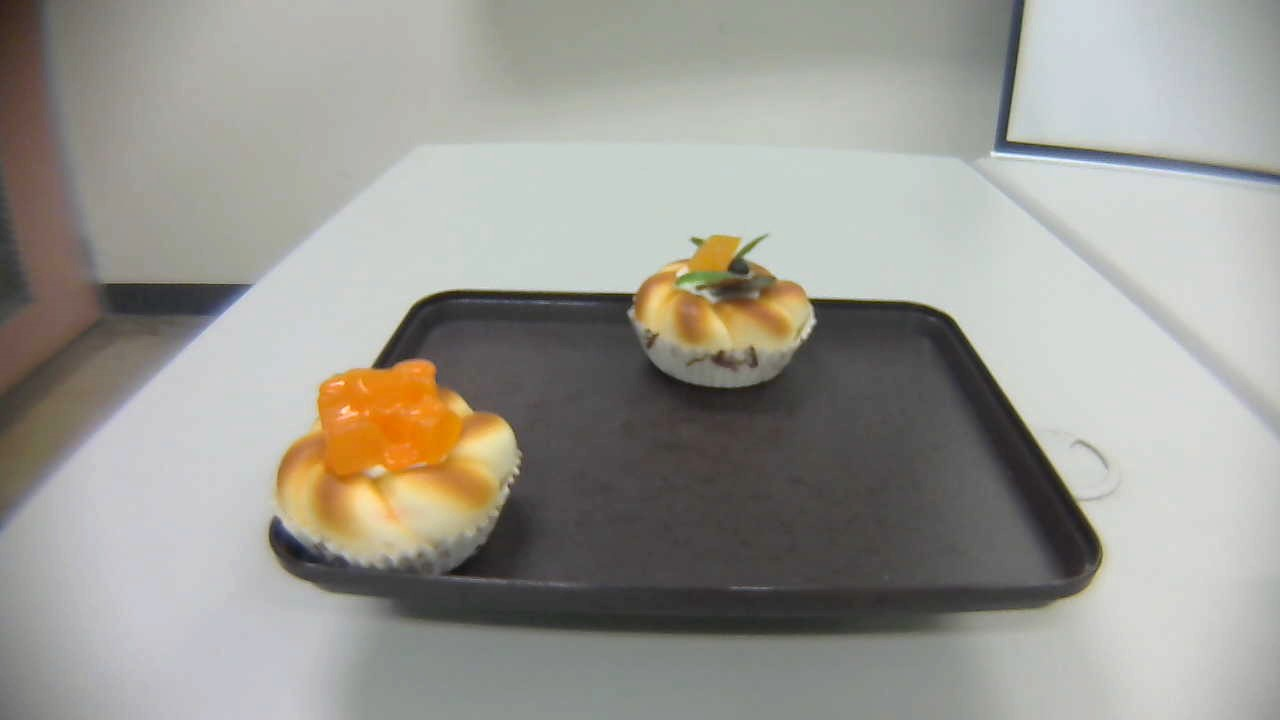fruit tart: (627, 231, 817, 388)
mango tart: (271, 357, 523, 574)
